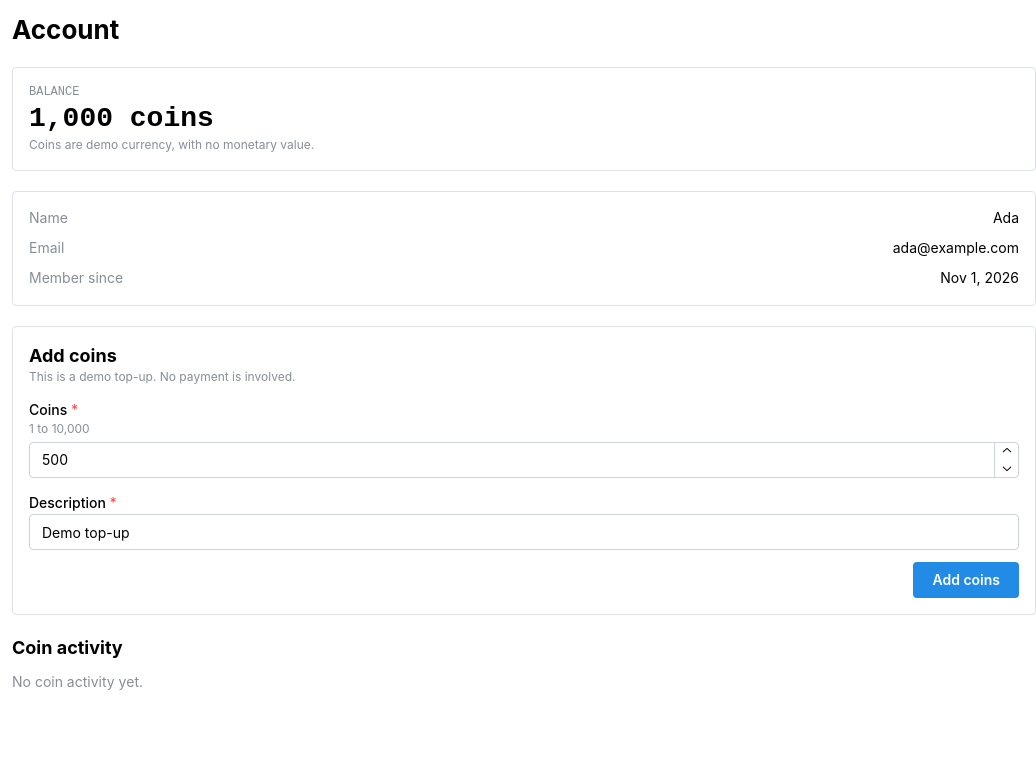
Test: ChargeForm › shows the server's message when the charge fails
This screenshot has width=1036, height=771.
Click the button "Add coins" at (966, 580), box 913,562 -> 1019,598
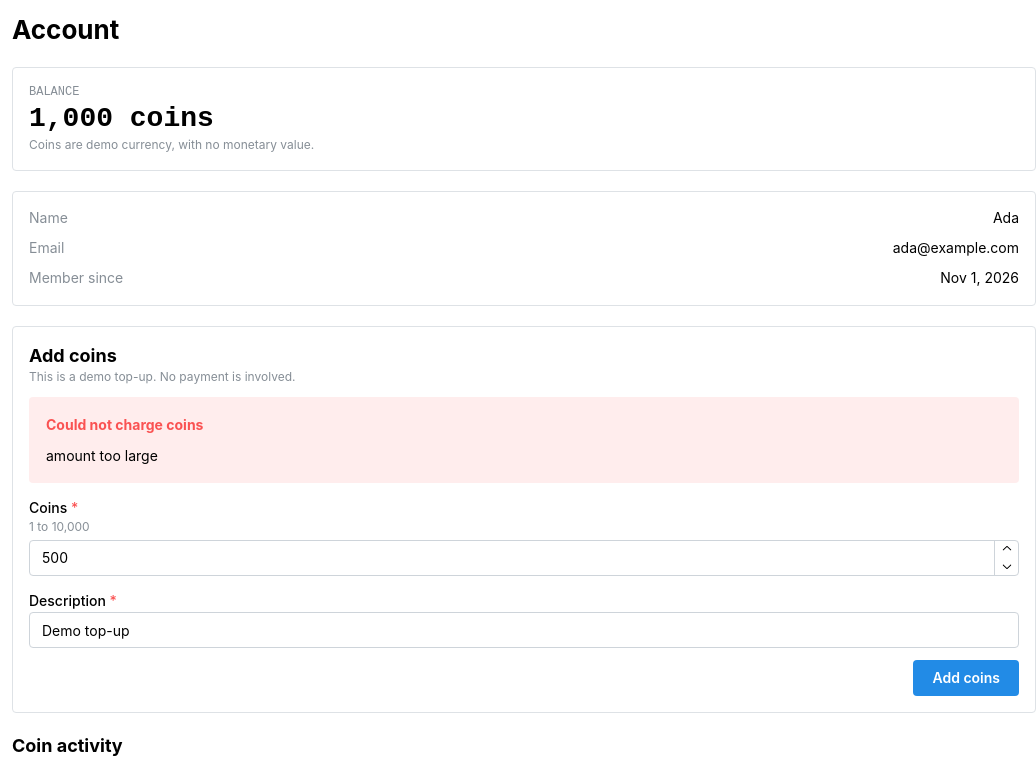
Check: the text "amount too large" is shown, box 46,447 -> 158,464
